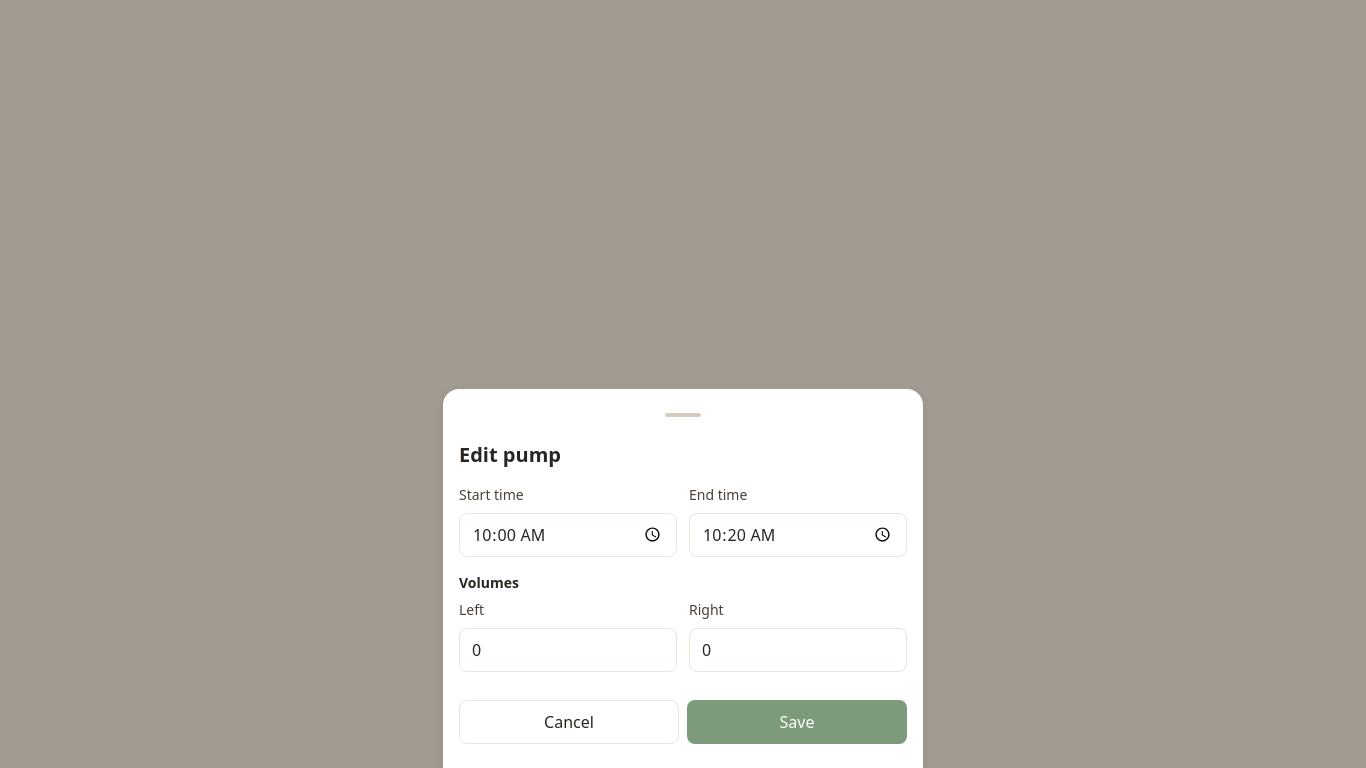
Scenario: EventEditDrawerV3 › flags overlap with a recorded pump on the same day
Replace the text in the time field labelled "Start time" with "08:10": (568, 535) [459,513,677,557]
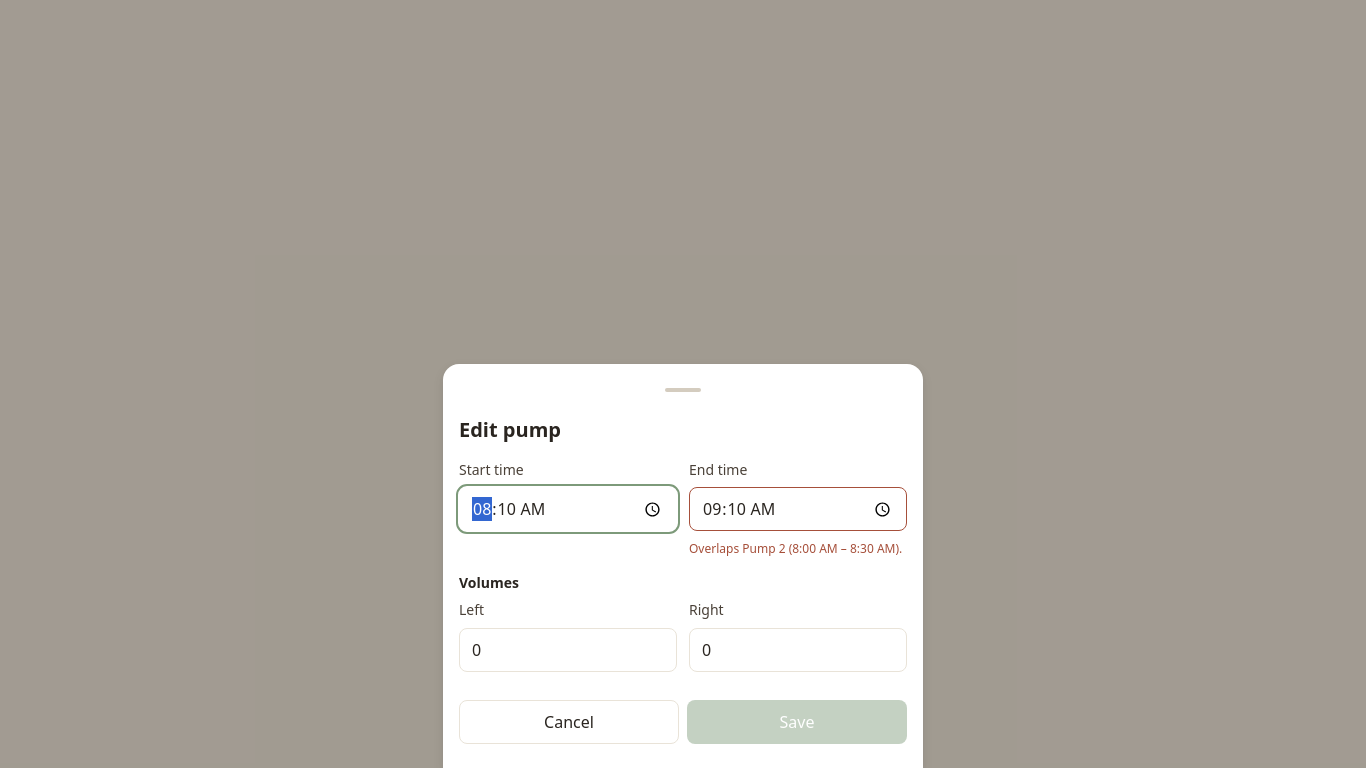
Check: the message shows "Overlaps Pump 2", box [689,540,902,557]
